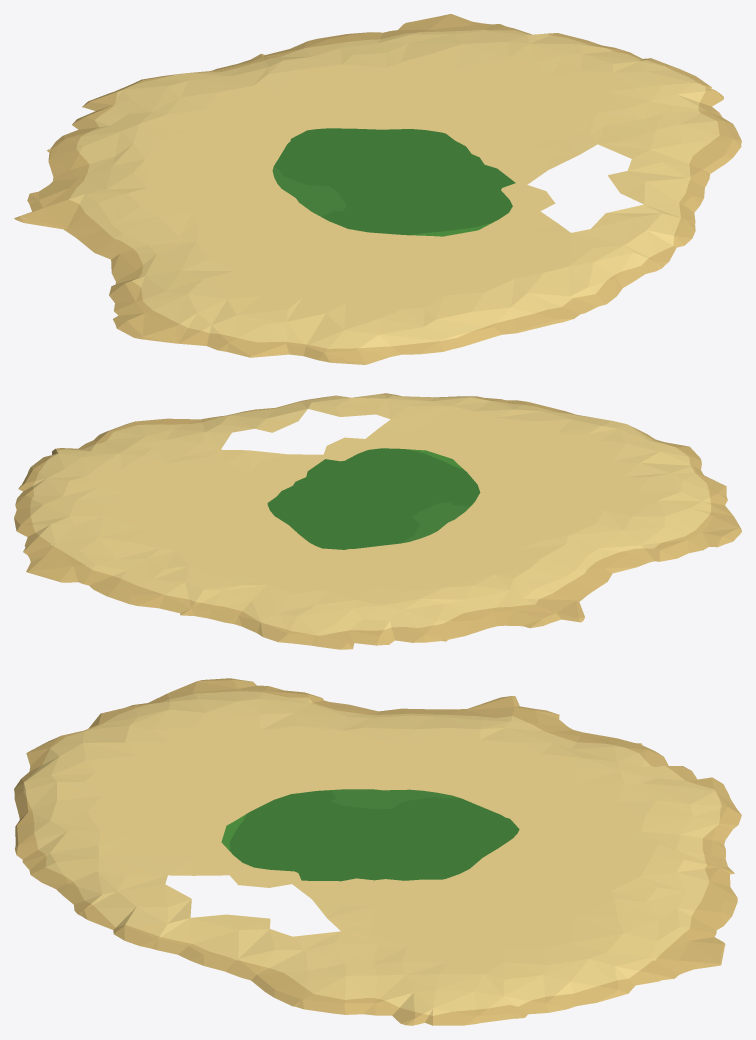
Rendered from Isl-islet4-Ground.fbx.
3 views of the same model, one above another, from view 1: azimuth 30°, elevation 25°; view 2: azimuth 150°, elevation 25°; view 3: azimuth 270°, elevation 25° (orthographic). The views are drawn at different scales.
Parts seen in each view (by area): view 1: Isl-islet4-Ground-c11, Isl-islet4-Ground-c22, Isl-islet4-Ground-c12, Isl-islet4-Ground-c21; view 2: Isl-islet4-Ground-c22, Isl-islet4-Ground-c11, Isl-islet4-Ground-c12, Isl-islet4-Ground-c21; view 3: Isl-islet4-Ground-c22, Isl-islet4-Ground-c11, Isl-islet4-Ground-c21, Isl-islet4-Ground-c12.
Boxes of the visible parts, box(x1,y1,x2,y2) form: Isl-islet4-Ground-c11: box(109, 186, 557, 364); Isl-islet4-Ground-c22: box(211, 14, 723, 186); Isl-islet4-Ground-c12: box(14, 70, 382, 259); Isl-islet4-Ground-c21: box(384, 110, 741, 323); Isl-islet4-Ground-c22: box(14, 440, 388, 623); Isl-islet4-Ground-c11: box(389, 402, 741, 573); Isl-islet4-Ground-c12: box(234, 500, 612, 649); Isl-islet4-Ground-c21: box(86, 393, 534, 499); Isl-islet4-Ground-c22: box(363, 825, 737, 1025); Isl-islet4-Ground-c11: box(14, 678, 379, 845); Isl-islet4-Ground-c21: box(15, 825, 378, 1015); Isl-islet4-Ground-c12: box(361, 696, 741, 844).
Size of the model in its own units: 23.64 by 0.4899 by 20.93.
